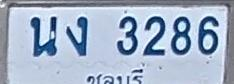2: (143, 16, 165, 56)
3: (116, 15, 137, 55)
6: (198, 15, 218, 55)
8: (171, 16, 190, 54)
A07: (66, 16, 88, 56)
A25: (30, 15, 58, 56)
CBI: (83, 67, 144, 84)
